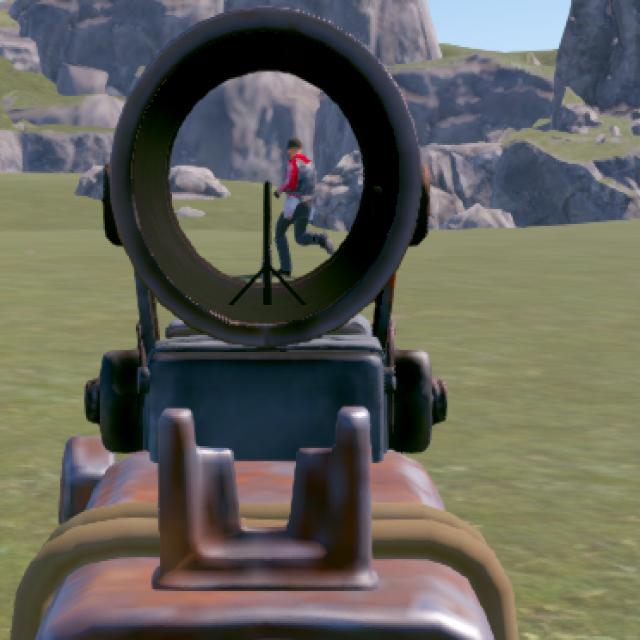Player: (275, 140, 315, 270)
